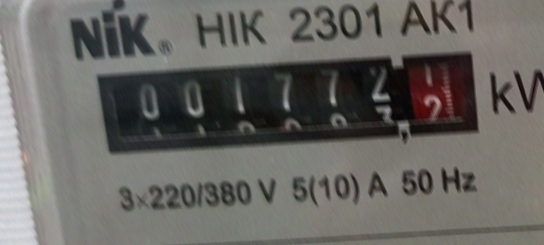0: (131, 79, 160, 120), (178, 77, 203, 117)
1: (227, 74, 245, 113), (418, 62, 432, 88)
2: (364, 65, 389, 103), (416, 92, 441, 121)
3: (371, 103, 393, 125)
7: (270, 70, 293, 112), (316, 68, 339, 107)
screen: (82, 40, 493, 165)
